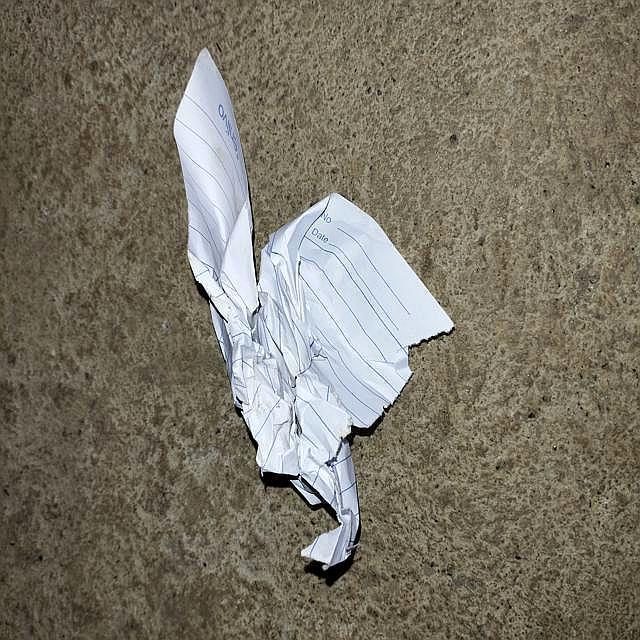Biodegradable: (104, 16, 514, 580)
